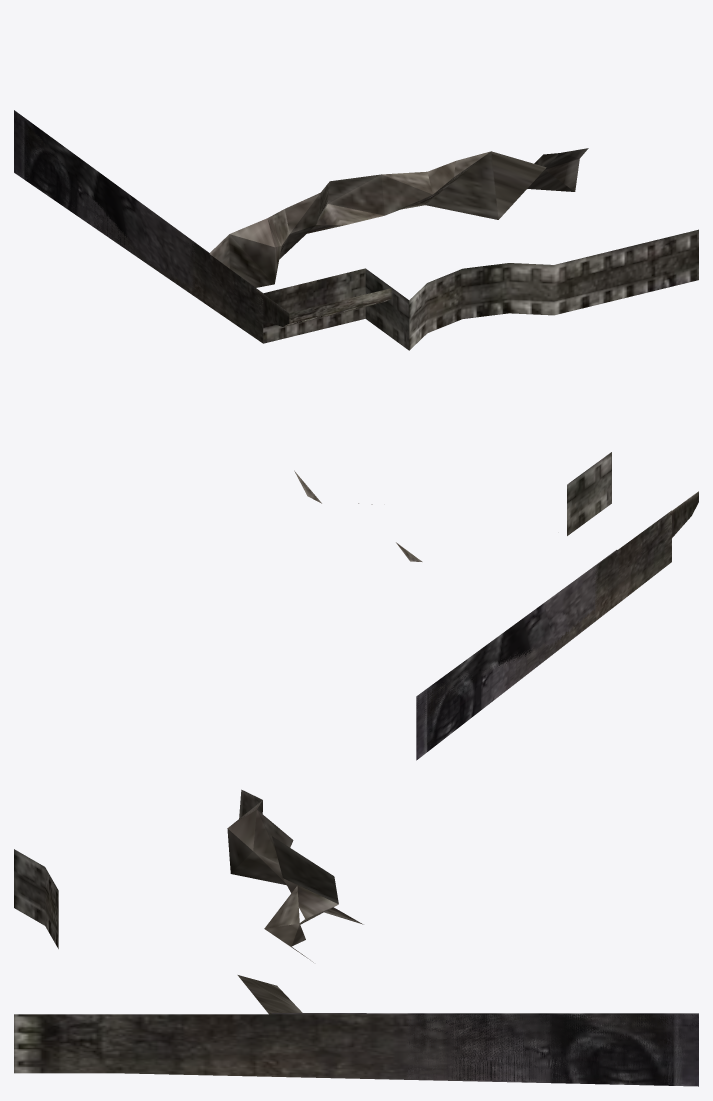
The picture shows the model from 3 angles, top to bottom: view 1: azimuth 30°, elevation 25°; view 2: azimuth 150°, elevation 25°; view 3: azimuth 270°, elevation 25°; orthographic projection. The views are drawn at different scales.
Visible parts, largest first — view 1: model_Object53; view 2: model_Object53; view 3: model_Object53.
Part boxes in pixels (left/top/right/bottom): model_Object53: left=14, top=110, right=698, bottom=350; model_Object53: left=294, top=452, right=698, bottom=760; model_Object53: left=14, top=789, right=698, bottom=1086.
Size of the model in its own units: 3.5 by 0.7119 by 4.53.
3 materials, 3 textured.
